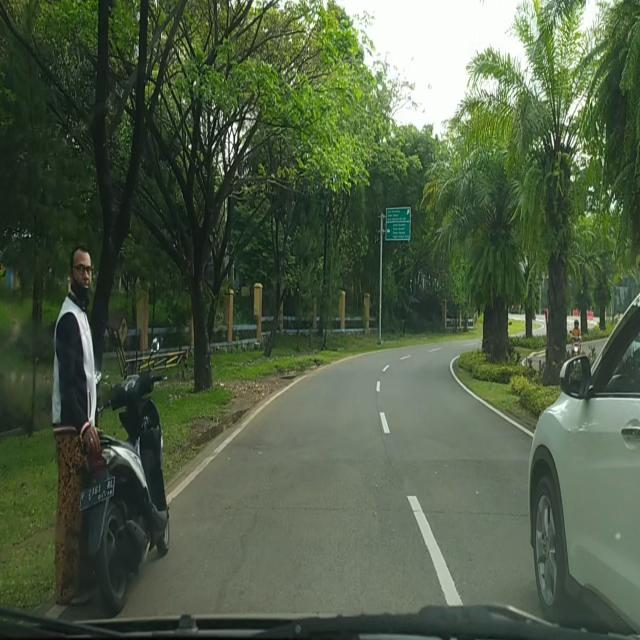Sewer Cover: (254, 498, 528, 516)
